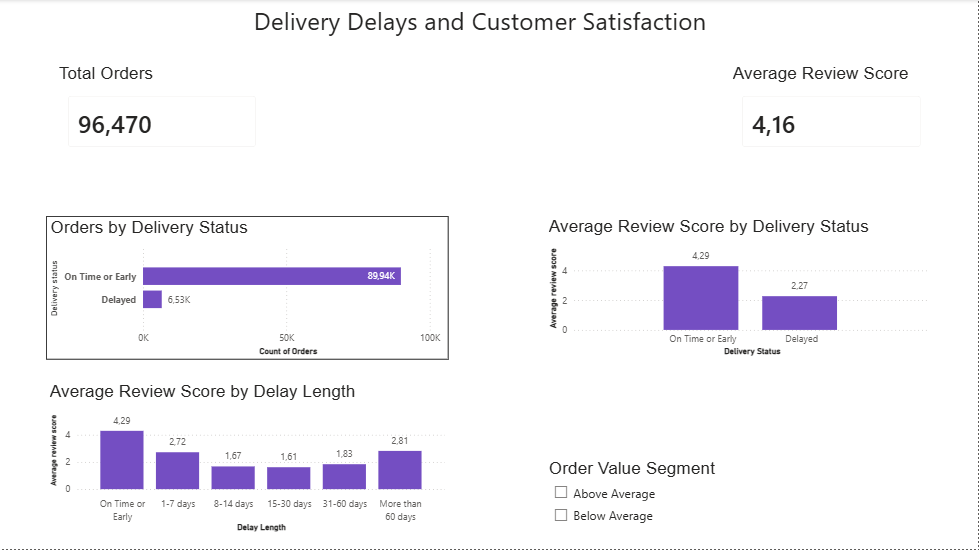

Layout of this report page (visuals, bound fields, positions):
{"tool":"powerbi","page":{"name":"Page 1","canvas":[1280,720],"ordinal":0},"visuals":[{"type":"cardVisual","title":"Total Orders","fields":{"Data":["delivery_dashboard_v2.Total Orders"]},"box":[72.2,84,280.5,127.7],"z":0},{"type":"textbox","box":[327.6,0,623.5,84],"z":1000},{"type":"cardVisual","title":"Average Review Score","fields":{"Data":["Avg(delivery_dashboard_v2.review_score)"]},"box":[954.1,84,268.8,127.7],"z":2000},{"type":"clusteredBarChart","title":"Orders by Delivery Status","fields":{"Y":["CountNonNull(delivery_dashboard_v2.order_id)"],"Category":["delivery_dashboard_v2.delivery_status"]},"box":[60.5,283.9,527.5,188.1],"z":3000},{"type":"clusteredColumnChart","title":"Average Review Score by Delivery Status","fields":{"Y":["Avg(delivery_dashboard_v2.review_score)"],"Category":["delivery_dashboard_v2.delivery_status"]},"box":[713.9,283.9,509,188.1],"z":4000},{"type":"clusteredColumnChart","title":"Average Review Score by Delay Length","fields":{"Category":["delivery_dashboard_v2.delay_bucket"],"Y":["Avg(delivery_dashboard_v2.review_score)"]},"box":[60.5,500.6,527.5,201.6],"z":5000},{"type":"slicer","title":"Order Value Segment","fields":{"Values":["delivery_dashboard_v2.value_segment"]},"box":[713.9,601.4,509,102.5],"z":6000}]}

Visuals, with their boxes in screenshot pixels (x1, y1, x2, y2), scaled from the page's 1280x720 canvas onto the 979x550 screenshot:
"Total Orders" cardVisual: box=[55, 64, 270, 162]
textbox: box=[251, 0, 727, 64]
"Average Review Score" cardVisual: box=[730, 64, 935, 162]
"Orders by Delivery Status" clusteredBarChart: box=[46, 217, 450, 361]
"Average Review Score by Delivery Status" clusteredColumnChart: box=[546, 217, 935, 361]
"Average Review Score by Delay Length" clusteredColumnChart: box=[46, 382, 450, 536]
"Order Value Segment" slicer: box=[546, 459, 935, 538]
